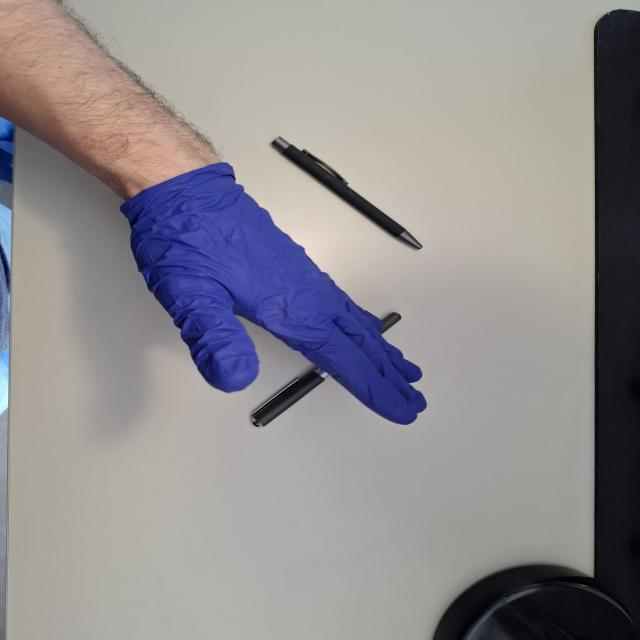glove_on: (119, 160, 432, 430)
